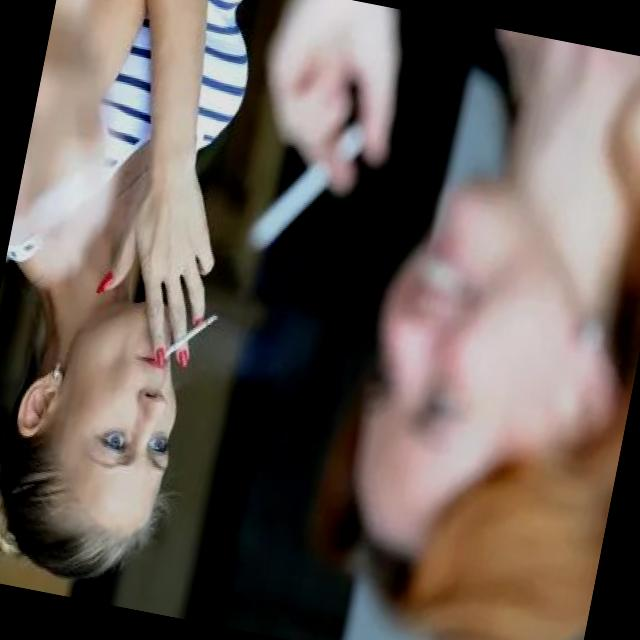smoke: (238, 100, 382, 281), (160, 296, 230, 374)
